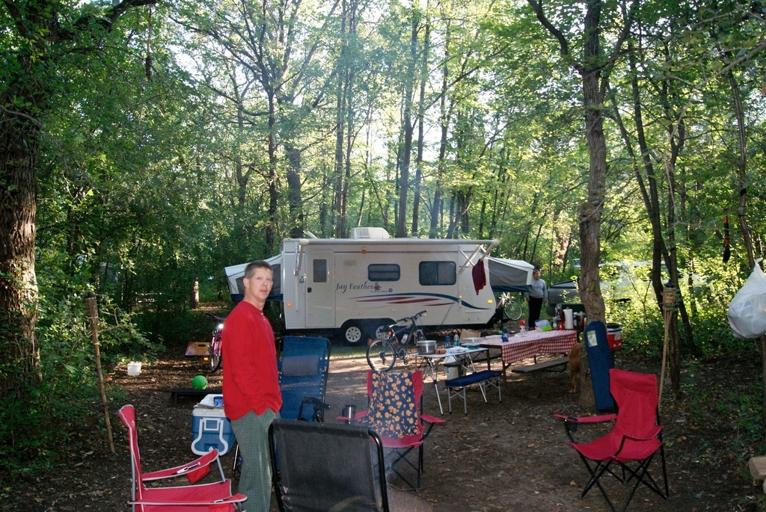non-vehicle: (365, 310, 428, 372), (204, 311, 225, 373), (498, 295, 522, 321)
